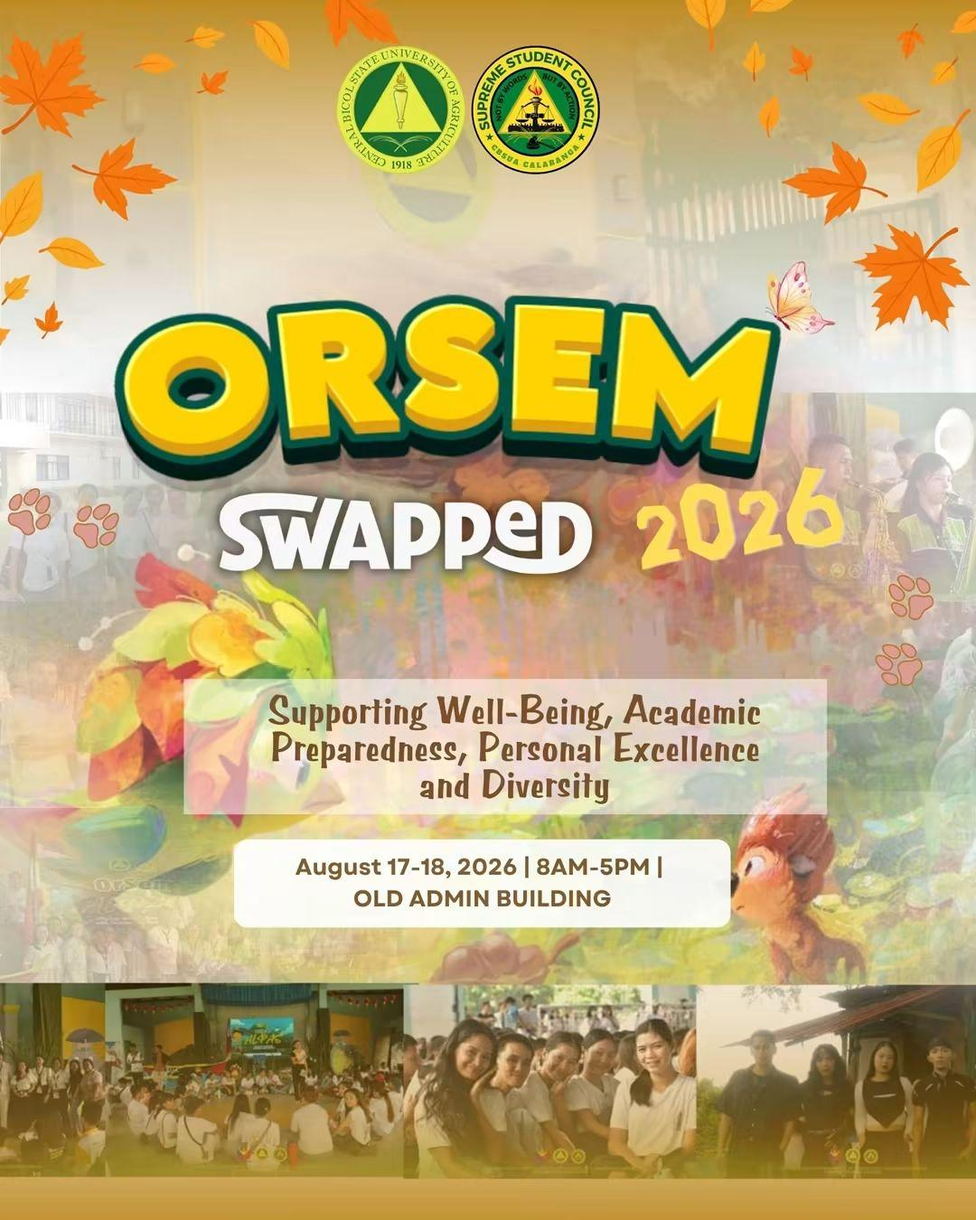embellishment: (763, 256, 841, 339)
logo: (469, 39, 606, 179), (332, 42, 471, 176)
text: (110, 289, 788, 486), (259, 688, 772, 804), (212, 486, 601, 582), (627, 459, 856, 581), (290, 852, 671, 911)
underlay: (182, 679, 827, 815), (233, 837, 733, 929)
